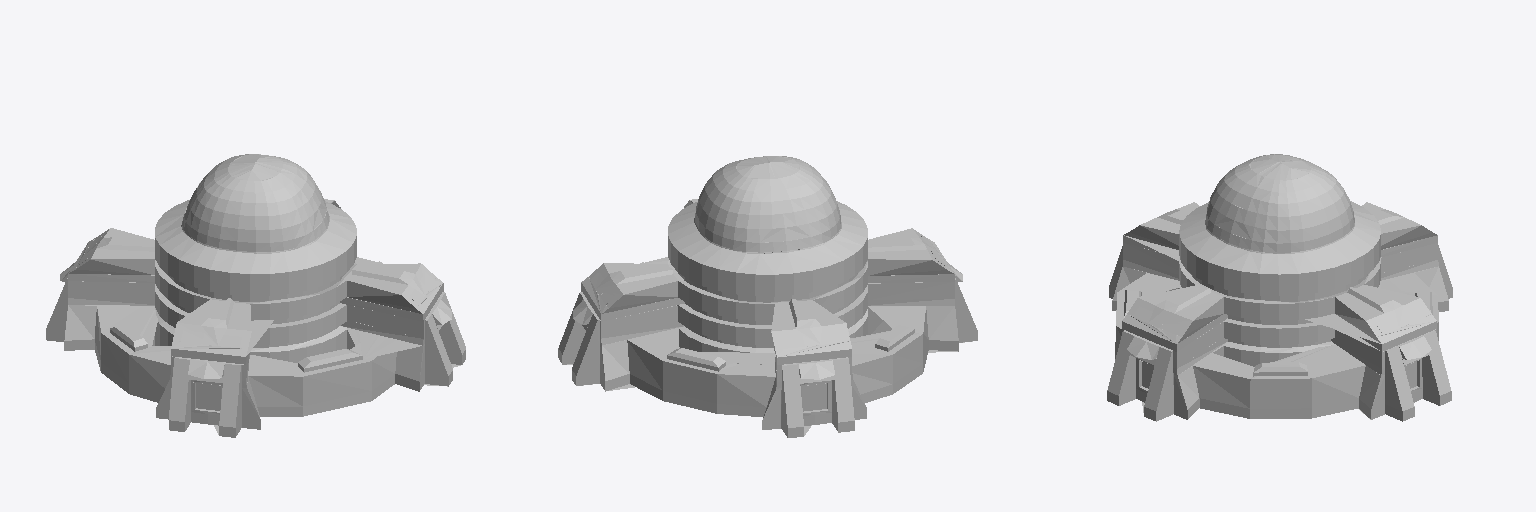
The model's file is centro_de_mando.obj.
The picture shows the model from 3 angles: view 1: azimuth 30°, elevation 25°; view 2: azimuth 150°, elevation 25°; view 3: azimuth 270°, elevation 25°; orthographic projection.
Visible parts, largest first — view 1: Cylinder; view 2: Cylinder; view 3: Cylinder.
Boxes of the visible parts, x1,y1,x2,y2 form: Cylinder: [46, 154, 465, 437]; Cylinder: [558, 156, 977, 437]; Cylinder: [1107, 154, 1452, 421].
Size of the model in its own units: 4.29 by 2.57 by 4.31.